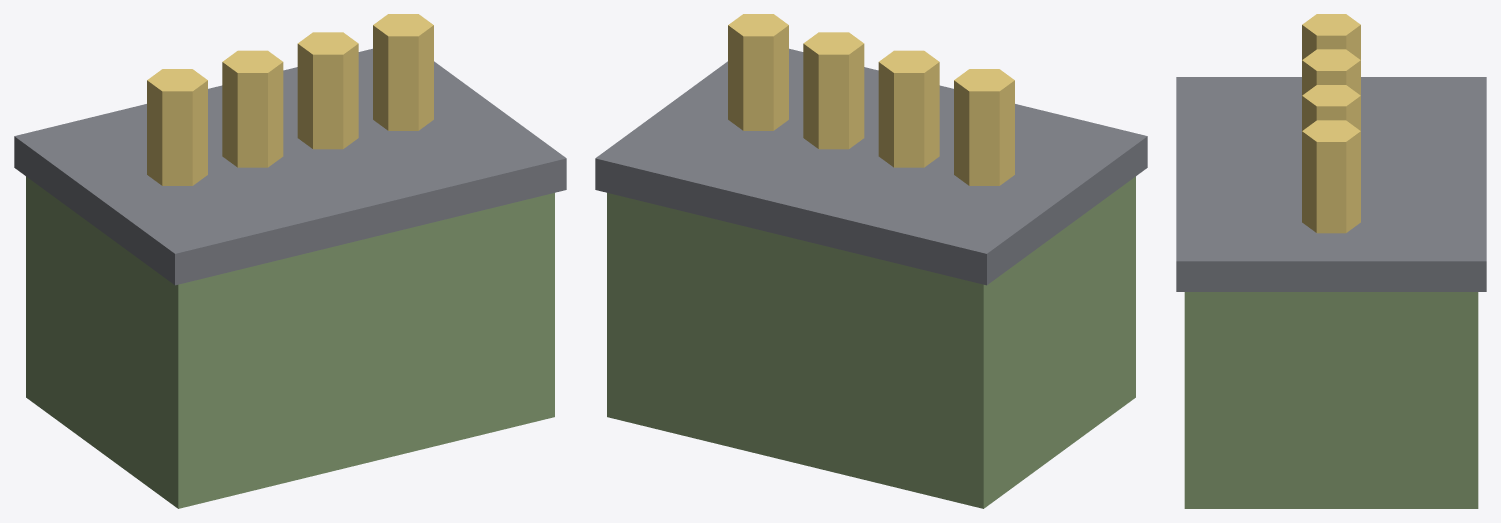
File: wasteland_pickup_ammo.glb
3 renders of one model, left to right at view 1: azimuth 30°, elevation 25°; view 2: azimuth 150°, elevation 25°; view 3: azimuth 270°, elevation 25°, orthographic. The views are drawn at different scales.
Visible parts, largest first — view 1: Pickup_Ammo; view 2: Pickup_Ammo; view 3: Pickup_Ammo.
Boxes of the visible parts, x1=… form: Pickup_Ammo: x1=14, y1=14, x2=566, y2=508; Pickup_Ammo: x1=595, y1=14, x2=1147, y2=508; Pickup_Ammo: x1=1176, y1=14, x2=1486, y2=508.
Bounding box in the file's own units: 1.04 × 0.9 × 0.74.
